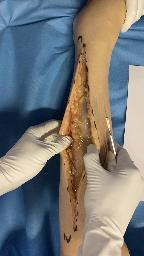scalpel: (104, 106, 119, 162)
